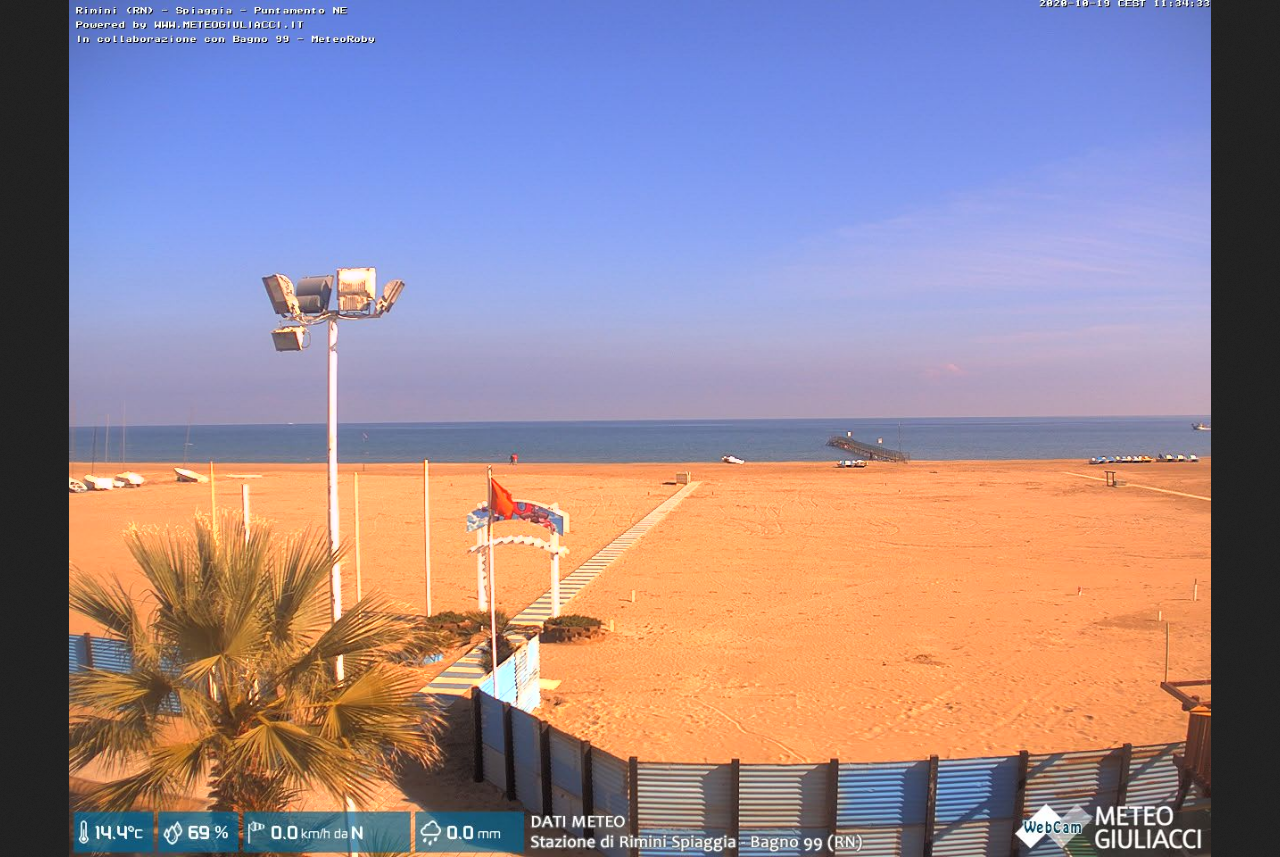maybe: (479, 472, 523, 526)
